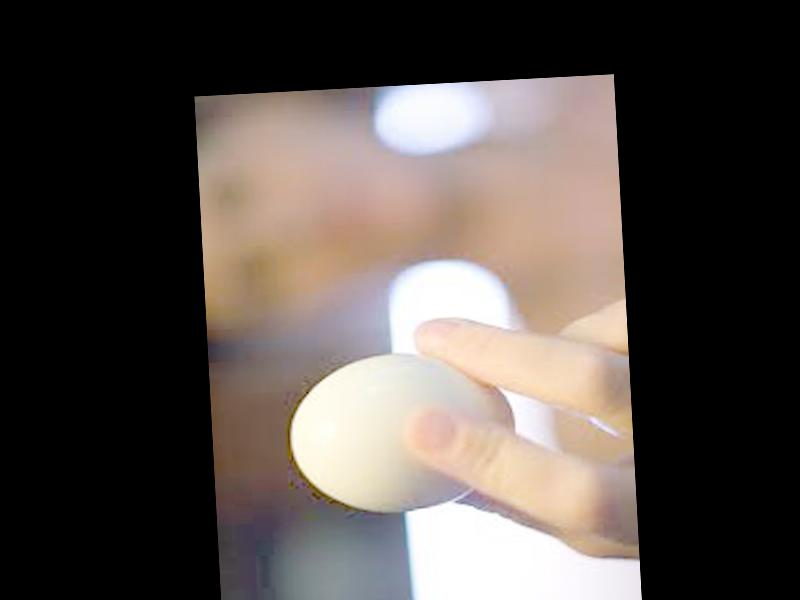Eggs: (286, 344, 519, 515)
